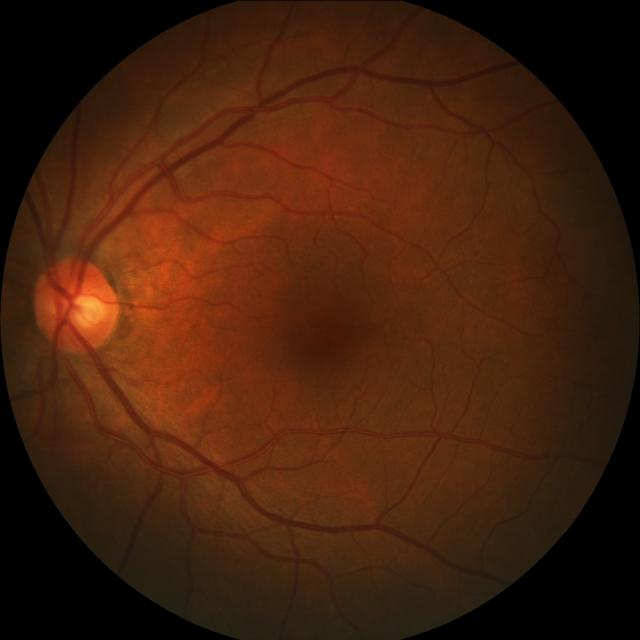OC: (64, 286, 105, 330)
OD: (30, 255, 116, 353)
